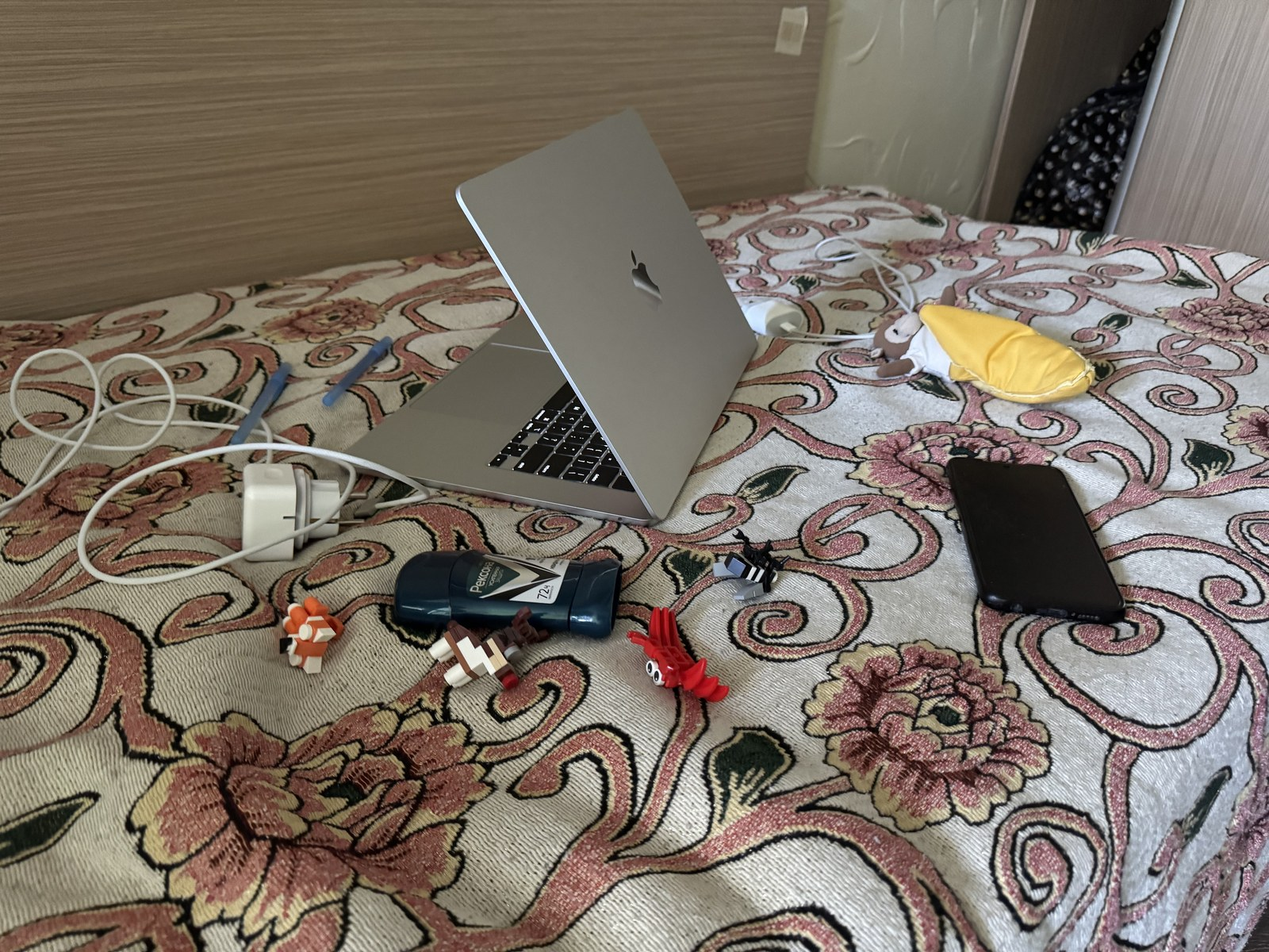cell phone: (947, 456, 1126, 623)
laptop: (338, 106, 760, 527)
